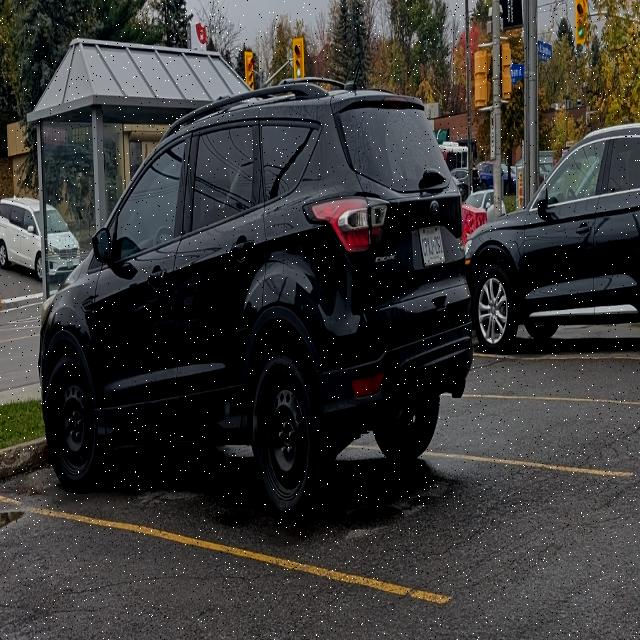plaque: (419, 226, 445, 266), (67, 260, 73, 269)
